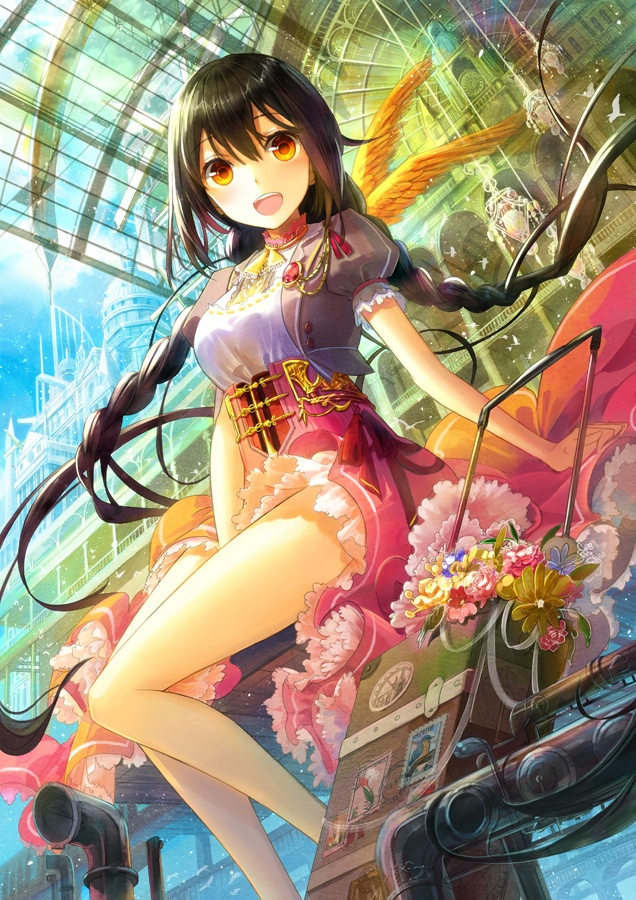纸片人正脸: (165, 49, 343, 238)
